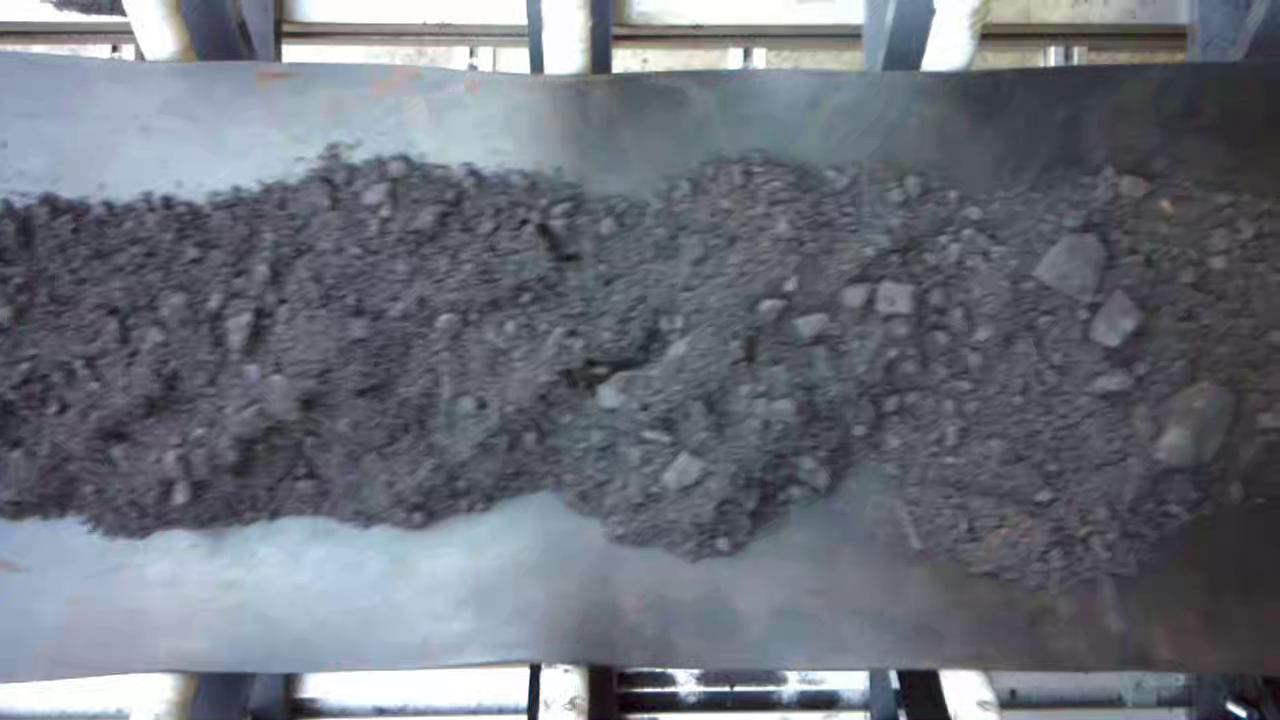conveyor: (3, 74, 1280, 660)
